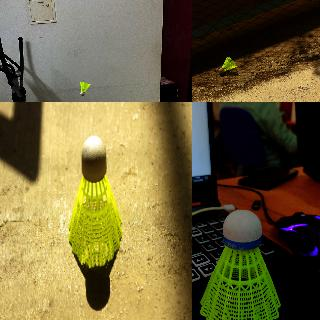shuttlecock: (202, 210, 281, 319), (69, 136, 122, 266), (218, 57, 236, 73), (80, 81, 90, 95)
